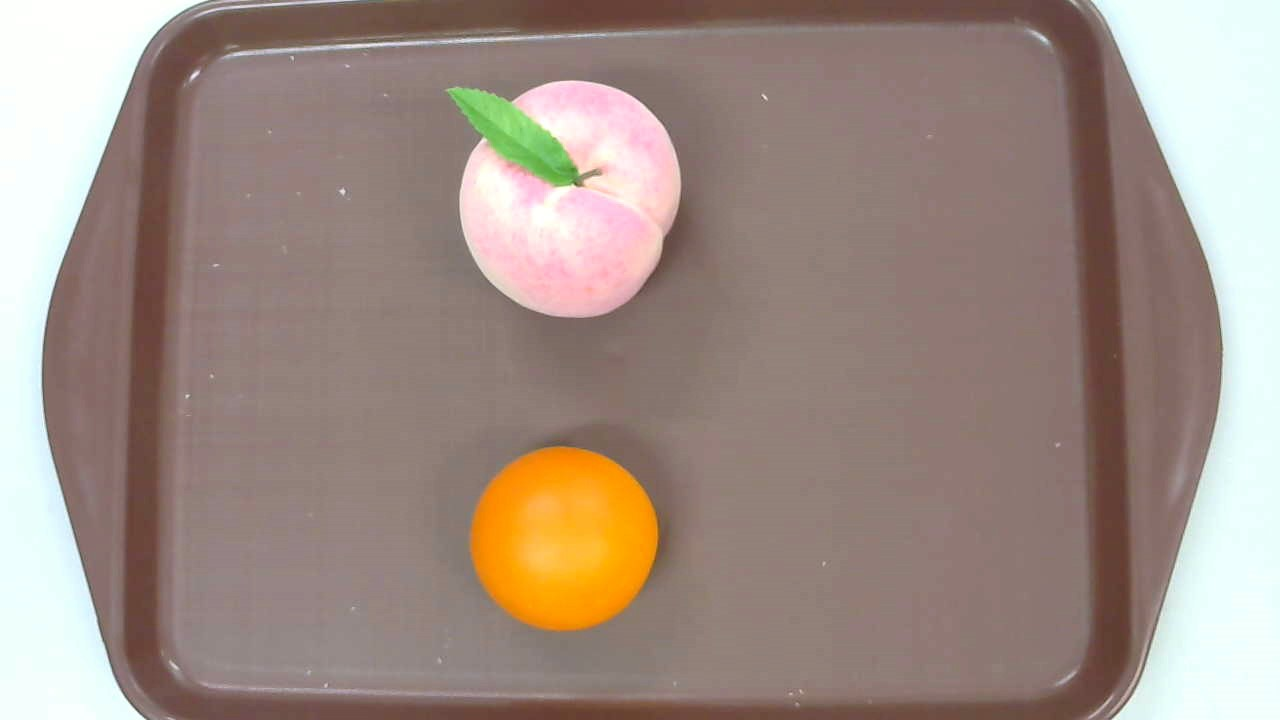bun: (467, 444, 660, 632)
peach: (442, 79, 682, 320)
